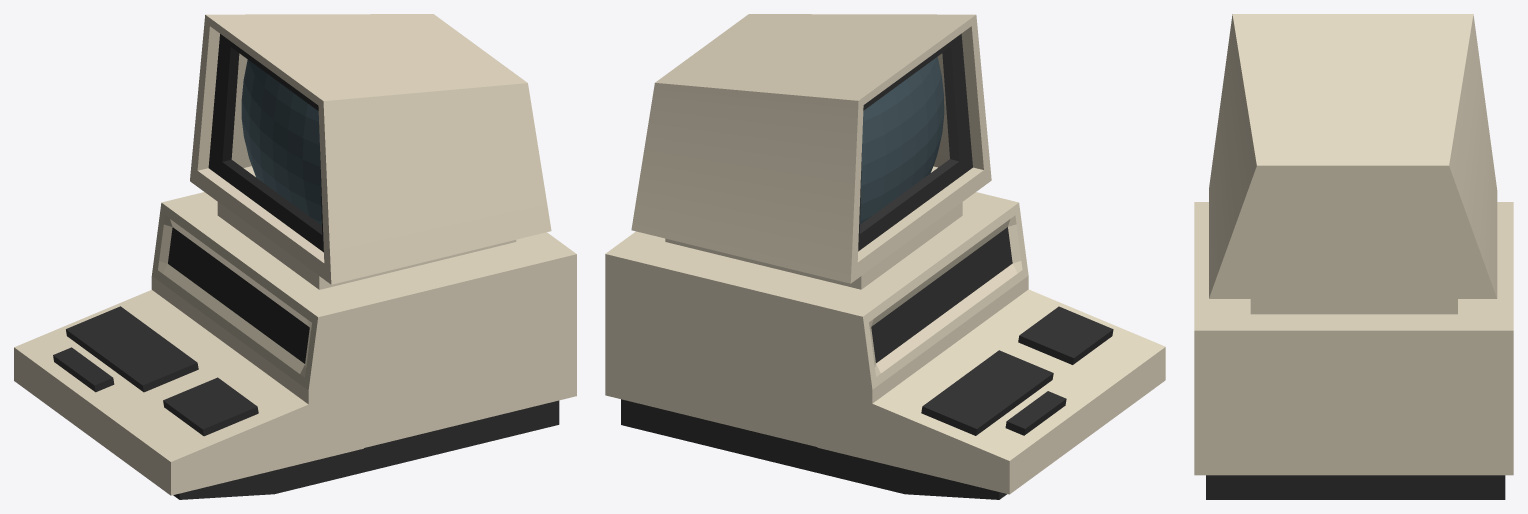
Rendered from commodore_pet.gltf.
3 renders of one model, left to right at view 1: azimuth 30°, elevation 25°; view 2: azimuth 150°, elevation 25°; view 3: azimuth 270°, elevation 25°, orthographic. The views are drawn at different scales.
Parts seen in each view (by area): view 1: Cube.017; view 2: Cube.017; view 3: Cube.017.
Part boxes in pixels (<box>): Cube.017: <box>14,14,576,499</box>; Cube.017: <box>605,14,1165,499</box>; Cube.017: <box>1194,14,1513,499</box>.
Bounding box in the file's own units: 9.79 × 8.49 × 6.55.
